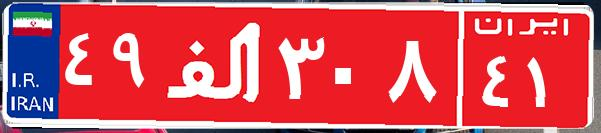0: (330, 28, 385, 110)
1: (525, 38, 570, 115)
3: (273, 28, 330, 110)
4: (57, 26, 110, 107), (475, 38, 525, 113)
8: (385, 28, 445, 110)
9: (110, 28, 158, 105)
الف: (158, 15, 273, 115)
